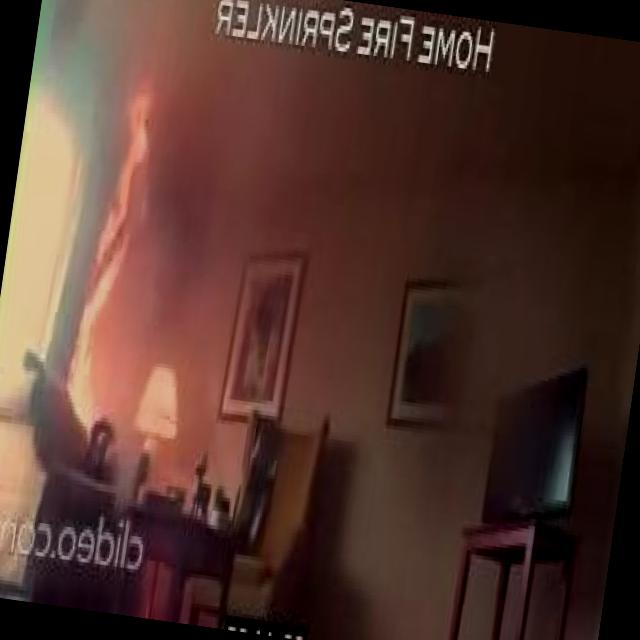fire: (44, 59, 190, 450)
